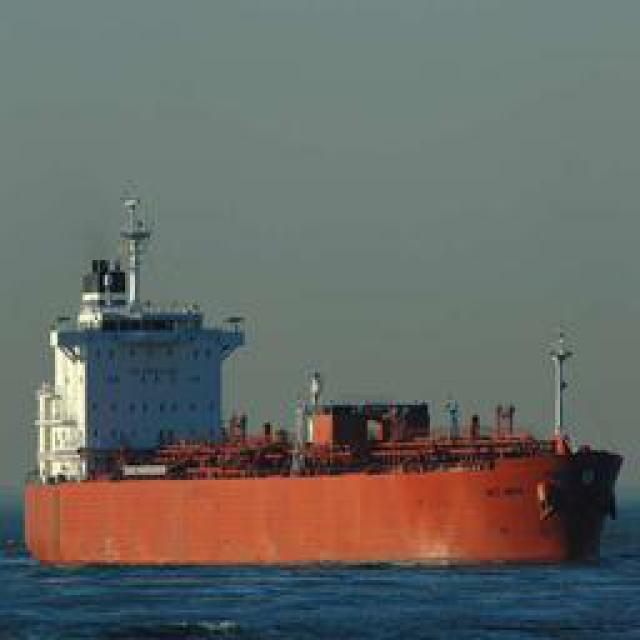Ship: (23, 347, 608, 570)
